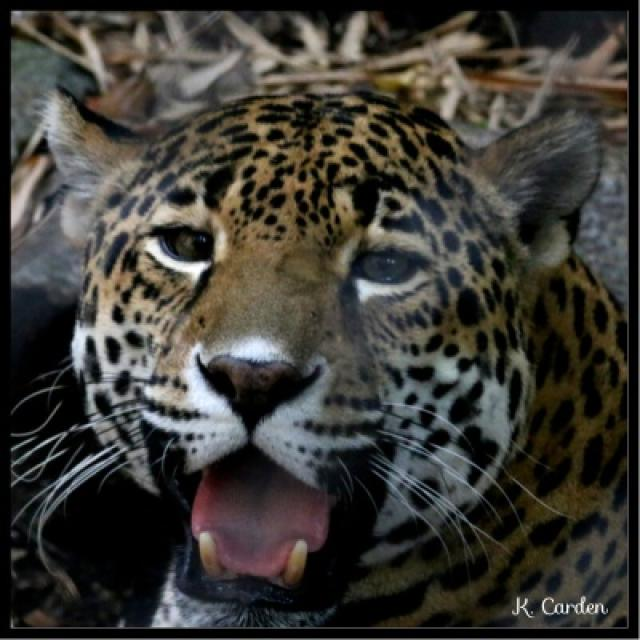Jaguar: (14, 82, 637, 632)
